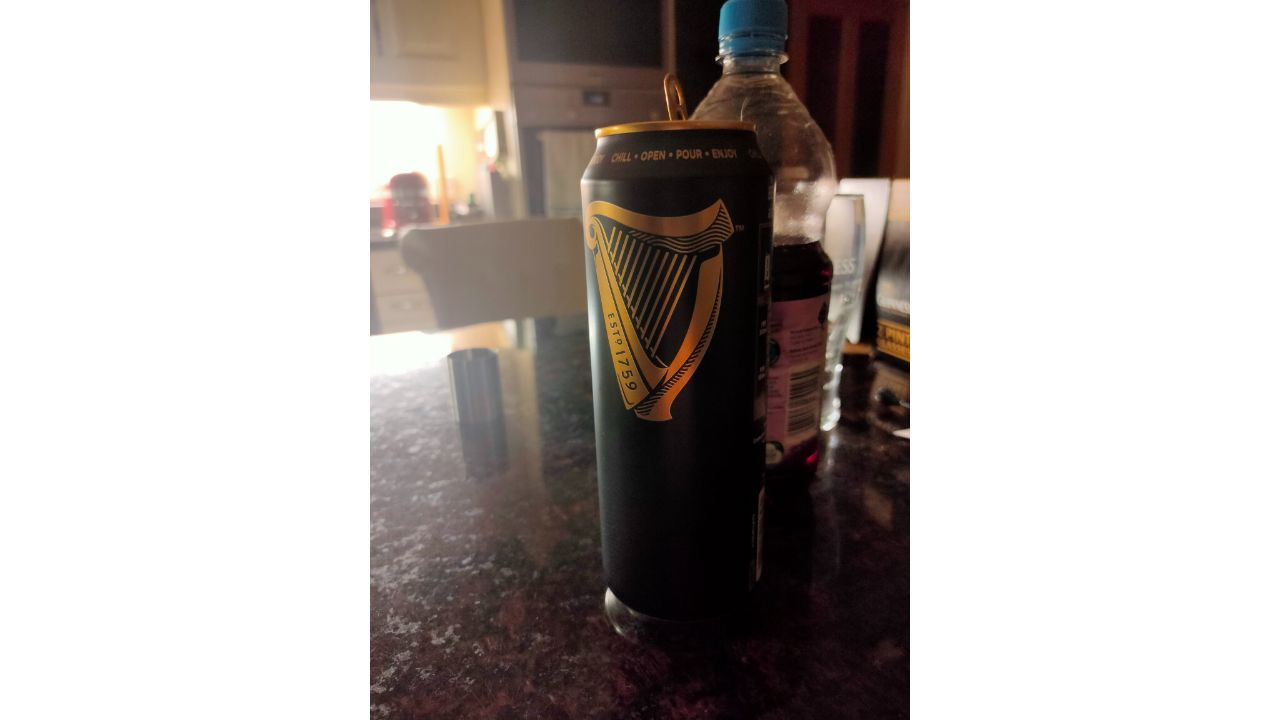Can: (574, 78, 779, 635)
